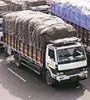truck: (2, 11, 89, 88)
